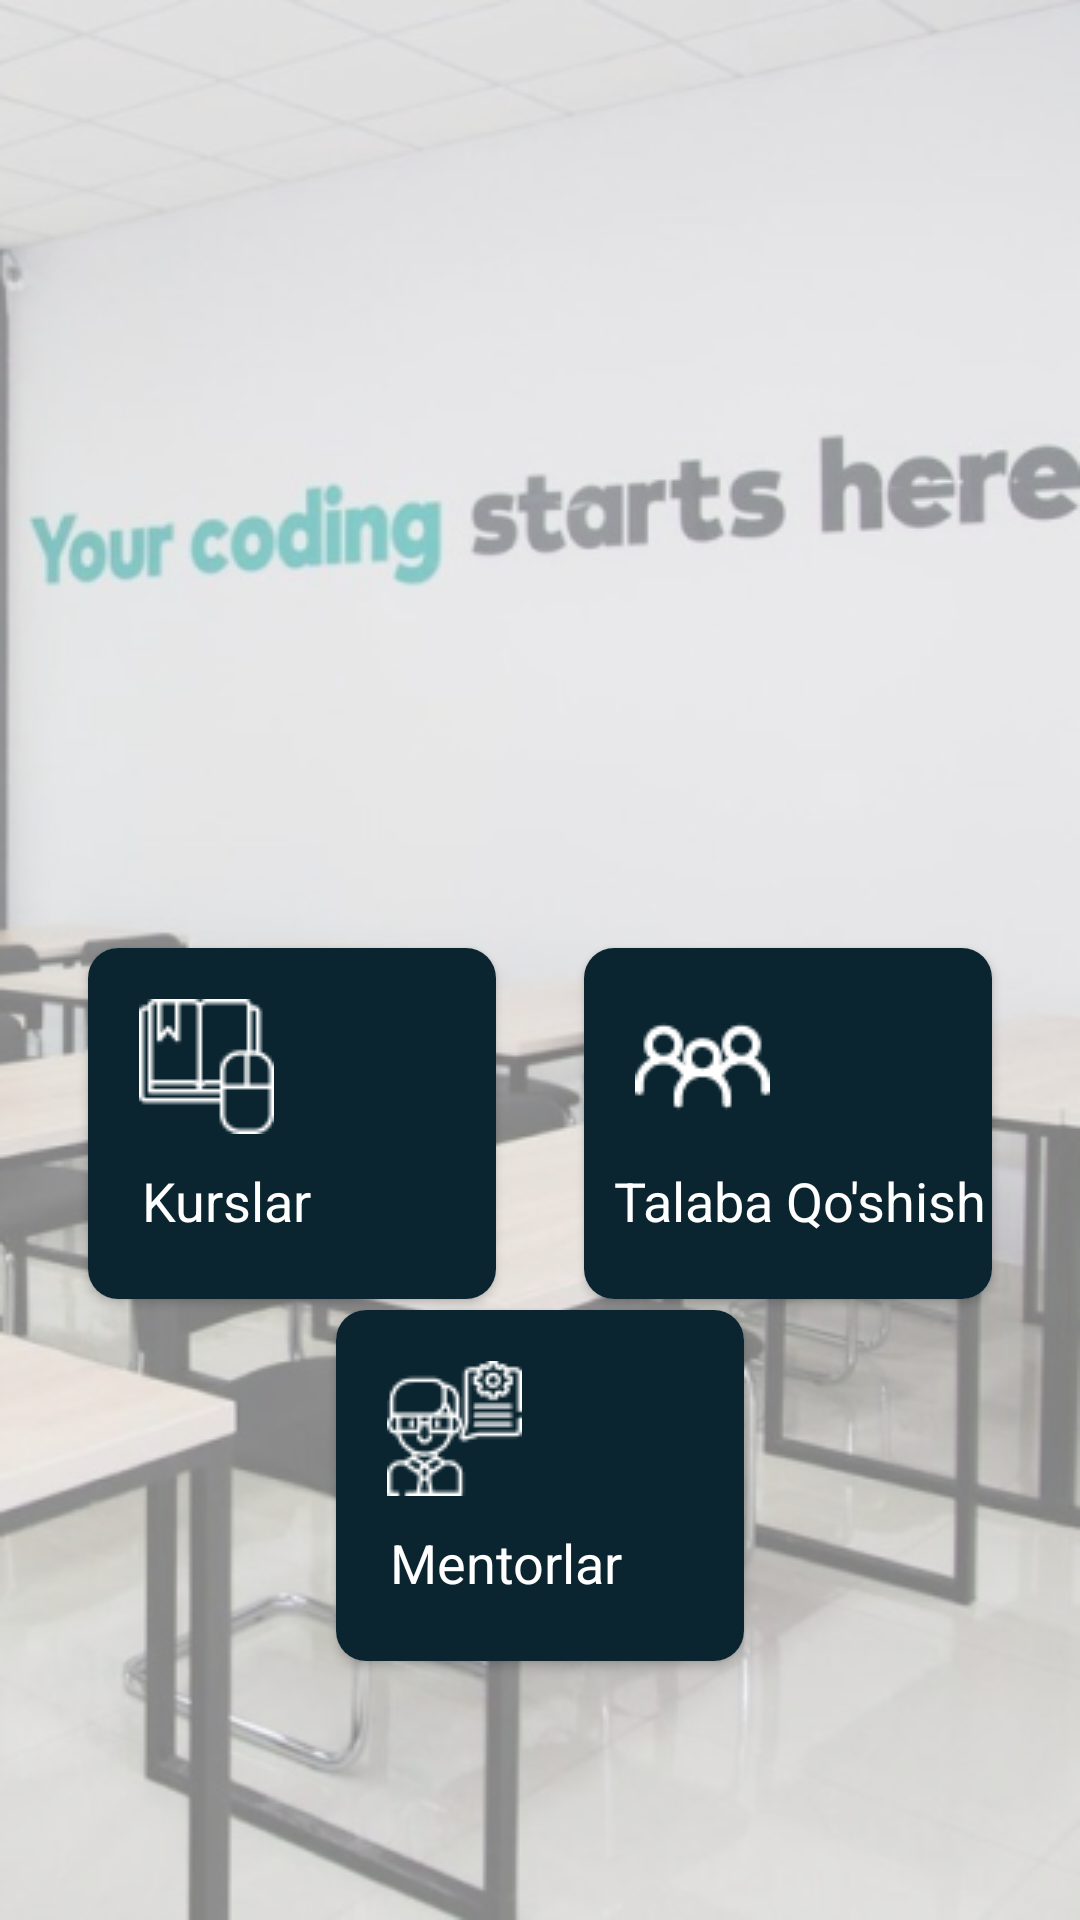

Screen size 1080px×1920px. Icon name, then its center in pixels as [x,y]:
course: [206,1066]
